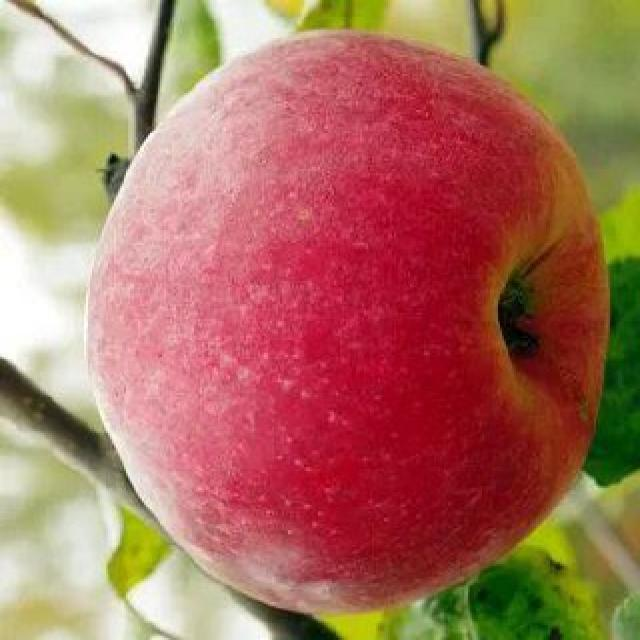Fresh Apple: (93, 37, 595, 608)
